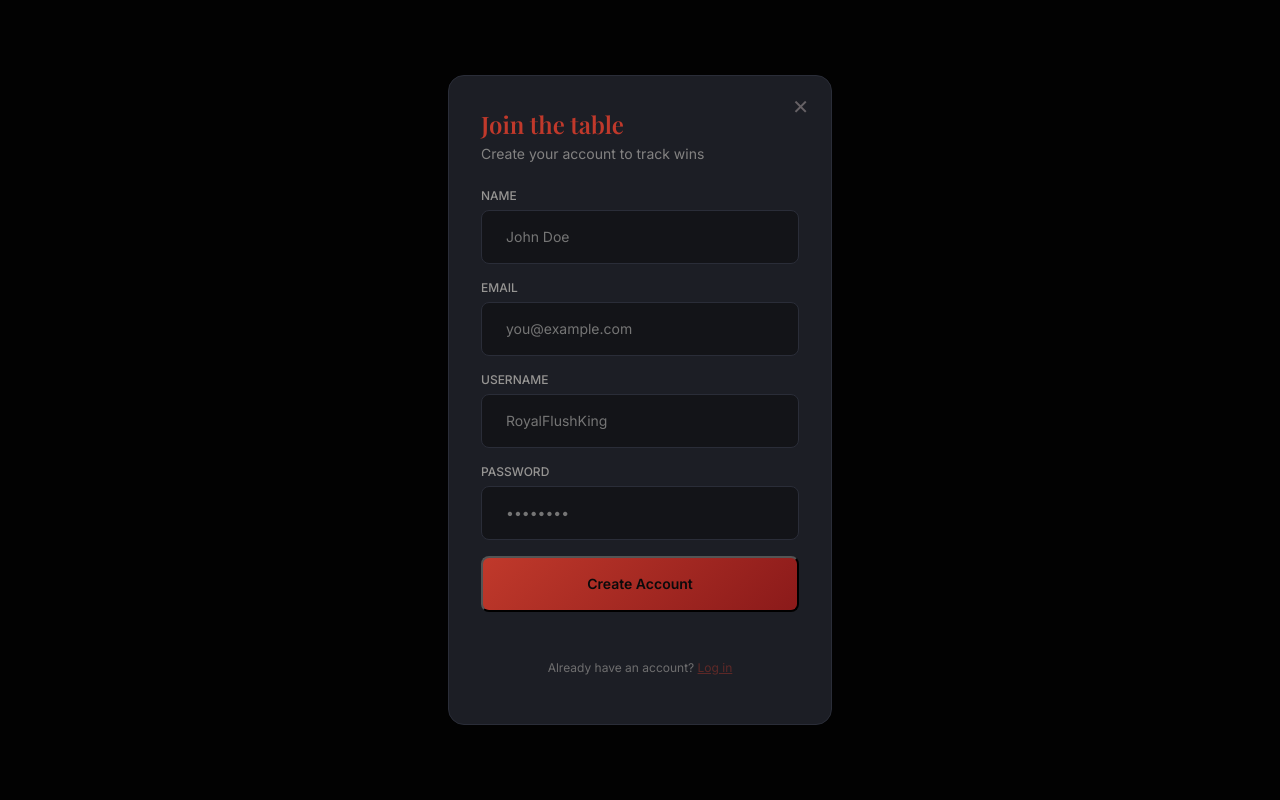
Scenario: SignUpView Component Tests › Displays error when network request fails
Click the button "Create Account".
click(640, 584)  # box [481,556,799,612]
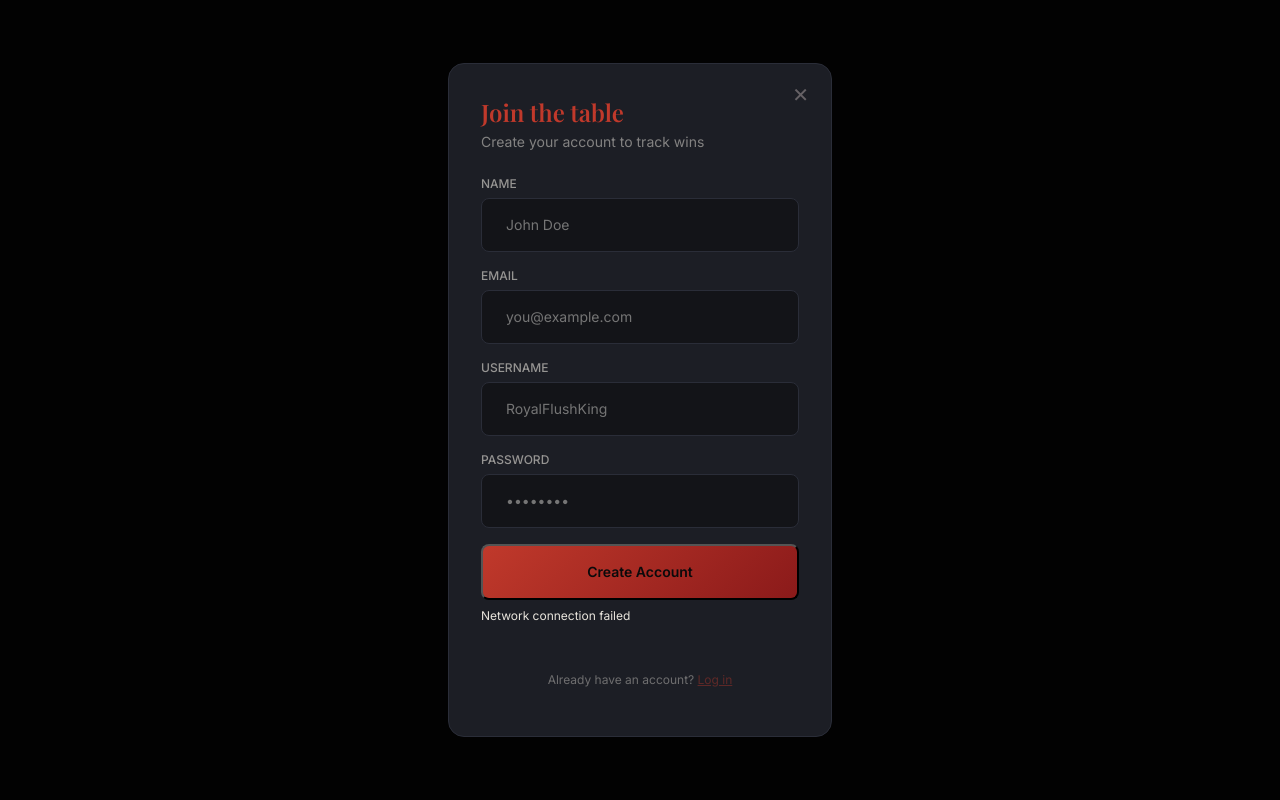
expect the text "Network connection failed" is shown: met, box [481,608,630,623]
